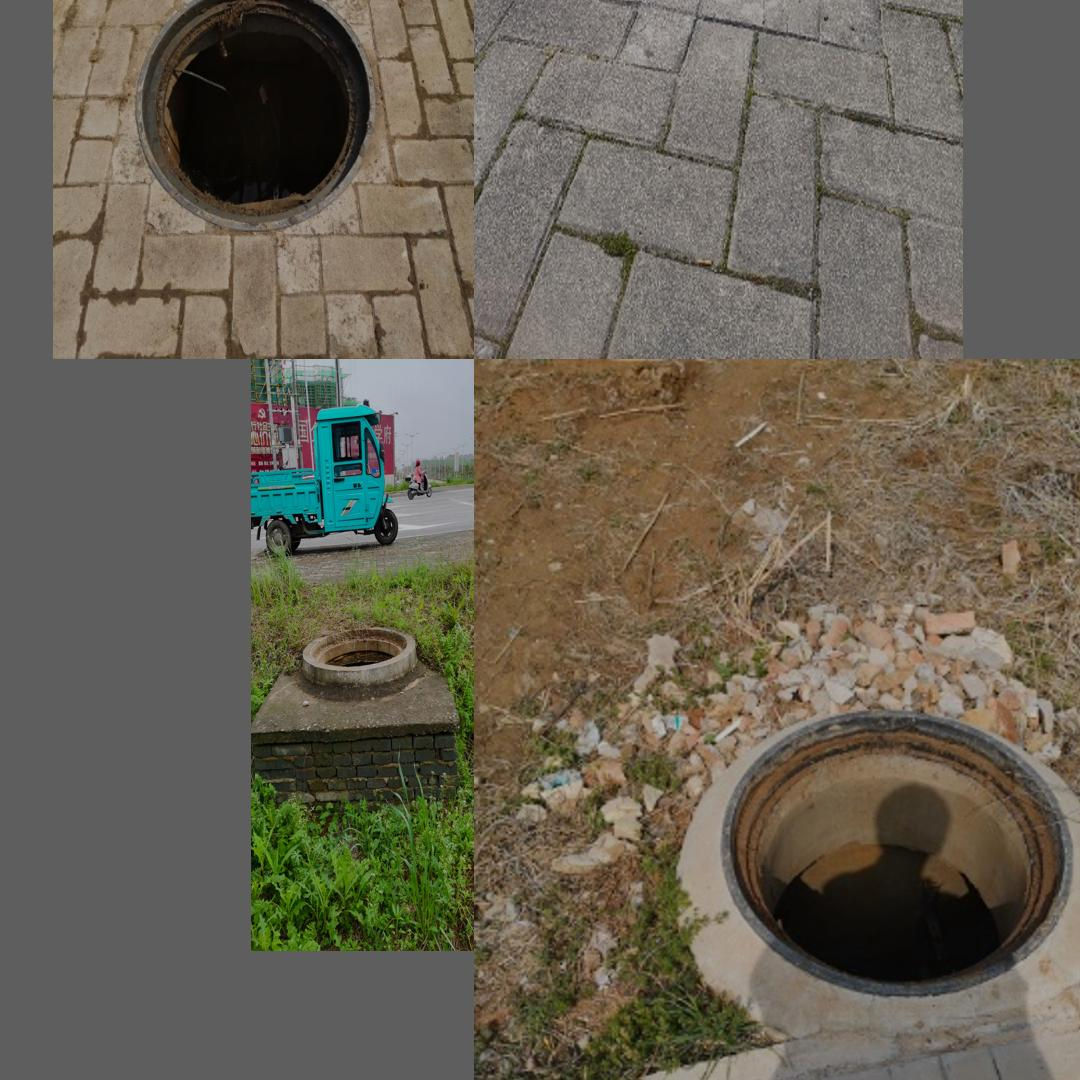lose: (720, 708, 1076, 1002), (135, 0, 376, 230), (304, 622, 416, 685), (582, 0, 886, 8)
